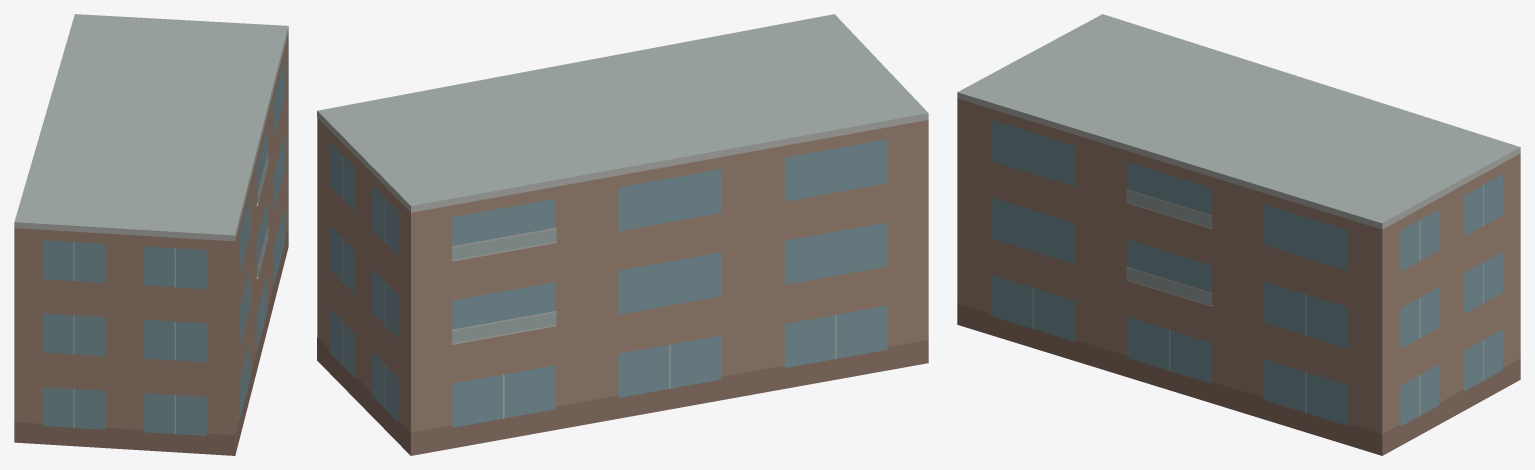
The model's file is survey-upis-32619573.glb.
The picture shows the model from 3 angles, left to right: view 1: azimuth 30°, elevation 25°; view 2: azimuth 150°, elevation 25°; view 3: azimuth 270°, elevation 25°; orthographic projection. The views are drawn at different scales.
Visible parts, largest first — view 1: survey-upis-32619573.tmp; view 2: survey-upis-32619573.tmp; view 3: survey-upis-32619573.tmp.
Boxes of the visible parts, left/top/right/bottom form: survey-upis-32619573.tmp: left=14, top=14, right=288, bottom=455; survey-upis-32619573.tmp: left=317, top=14, right=928, bottom=455; survey-upis-32619573.tmp: left=957, top=14, right=1520, bottom=455.
Bounding box in the file's own units: 17.69 × 9.15 × 20.11.
